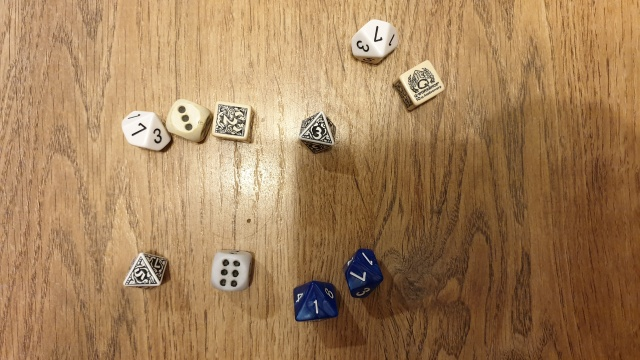d10-1: (289, 275, 342, 326)
d10-7: (345, 14, 404, 69), (339, 245, 386, 307), (117, 104, 174, 155)
d6-3: (161, 97, 211, 143)
d6-6: (206, 245, 256, 295)
d6p-2: (211, 99, 255, 146)
d6p-6: (392, 58, 448, 115)
d8p-3: (296, 107, 340, 157)
d8p-5: (119, 248, 175, 293)
